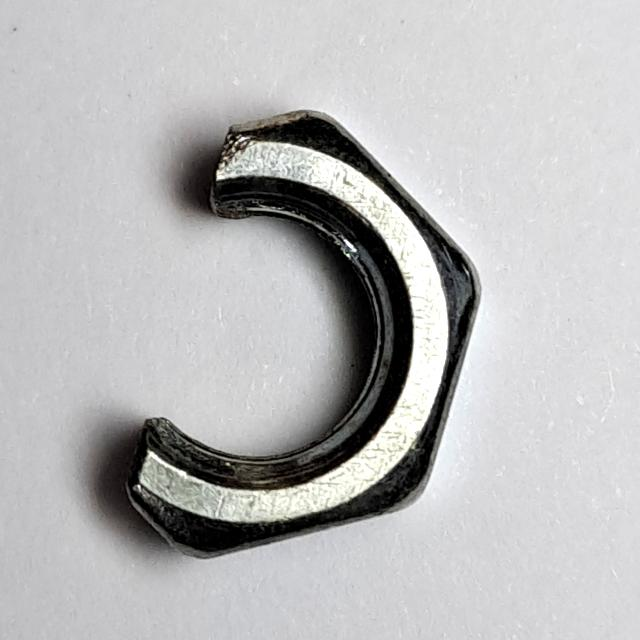Fracture: (112, 96, 496, 573)
